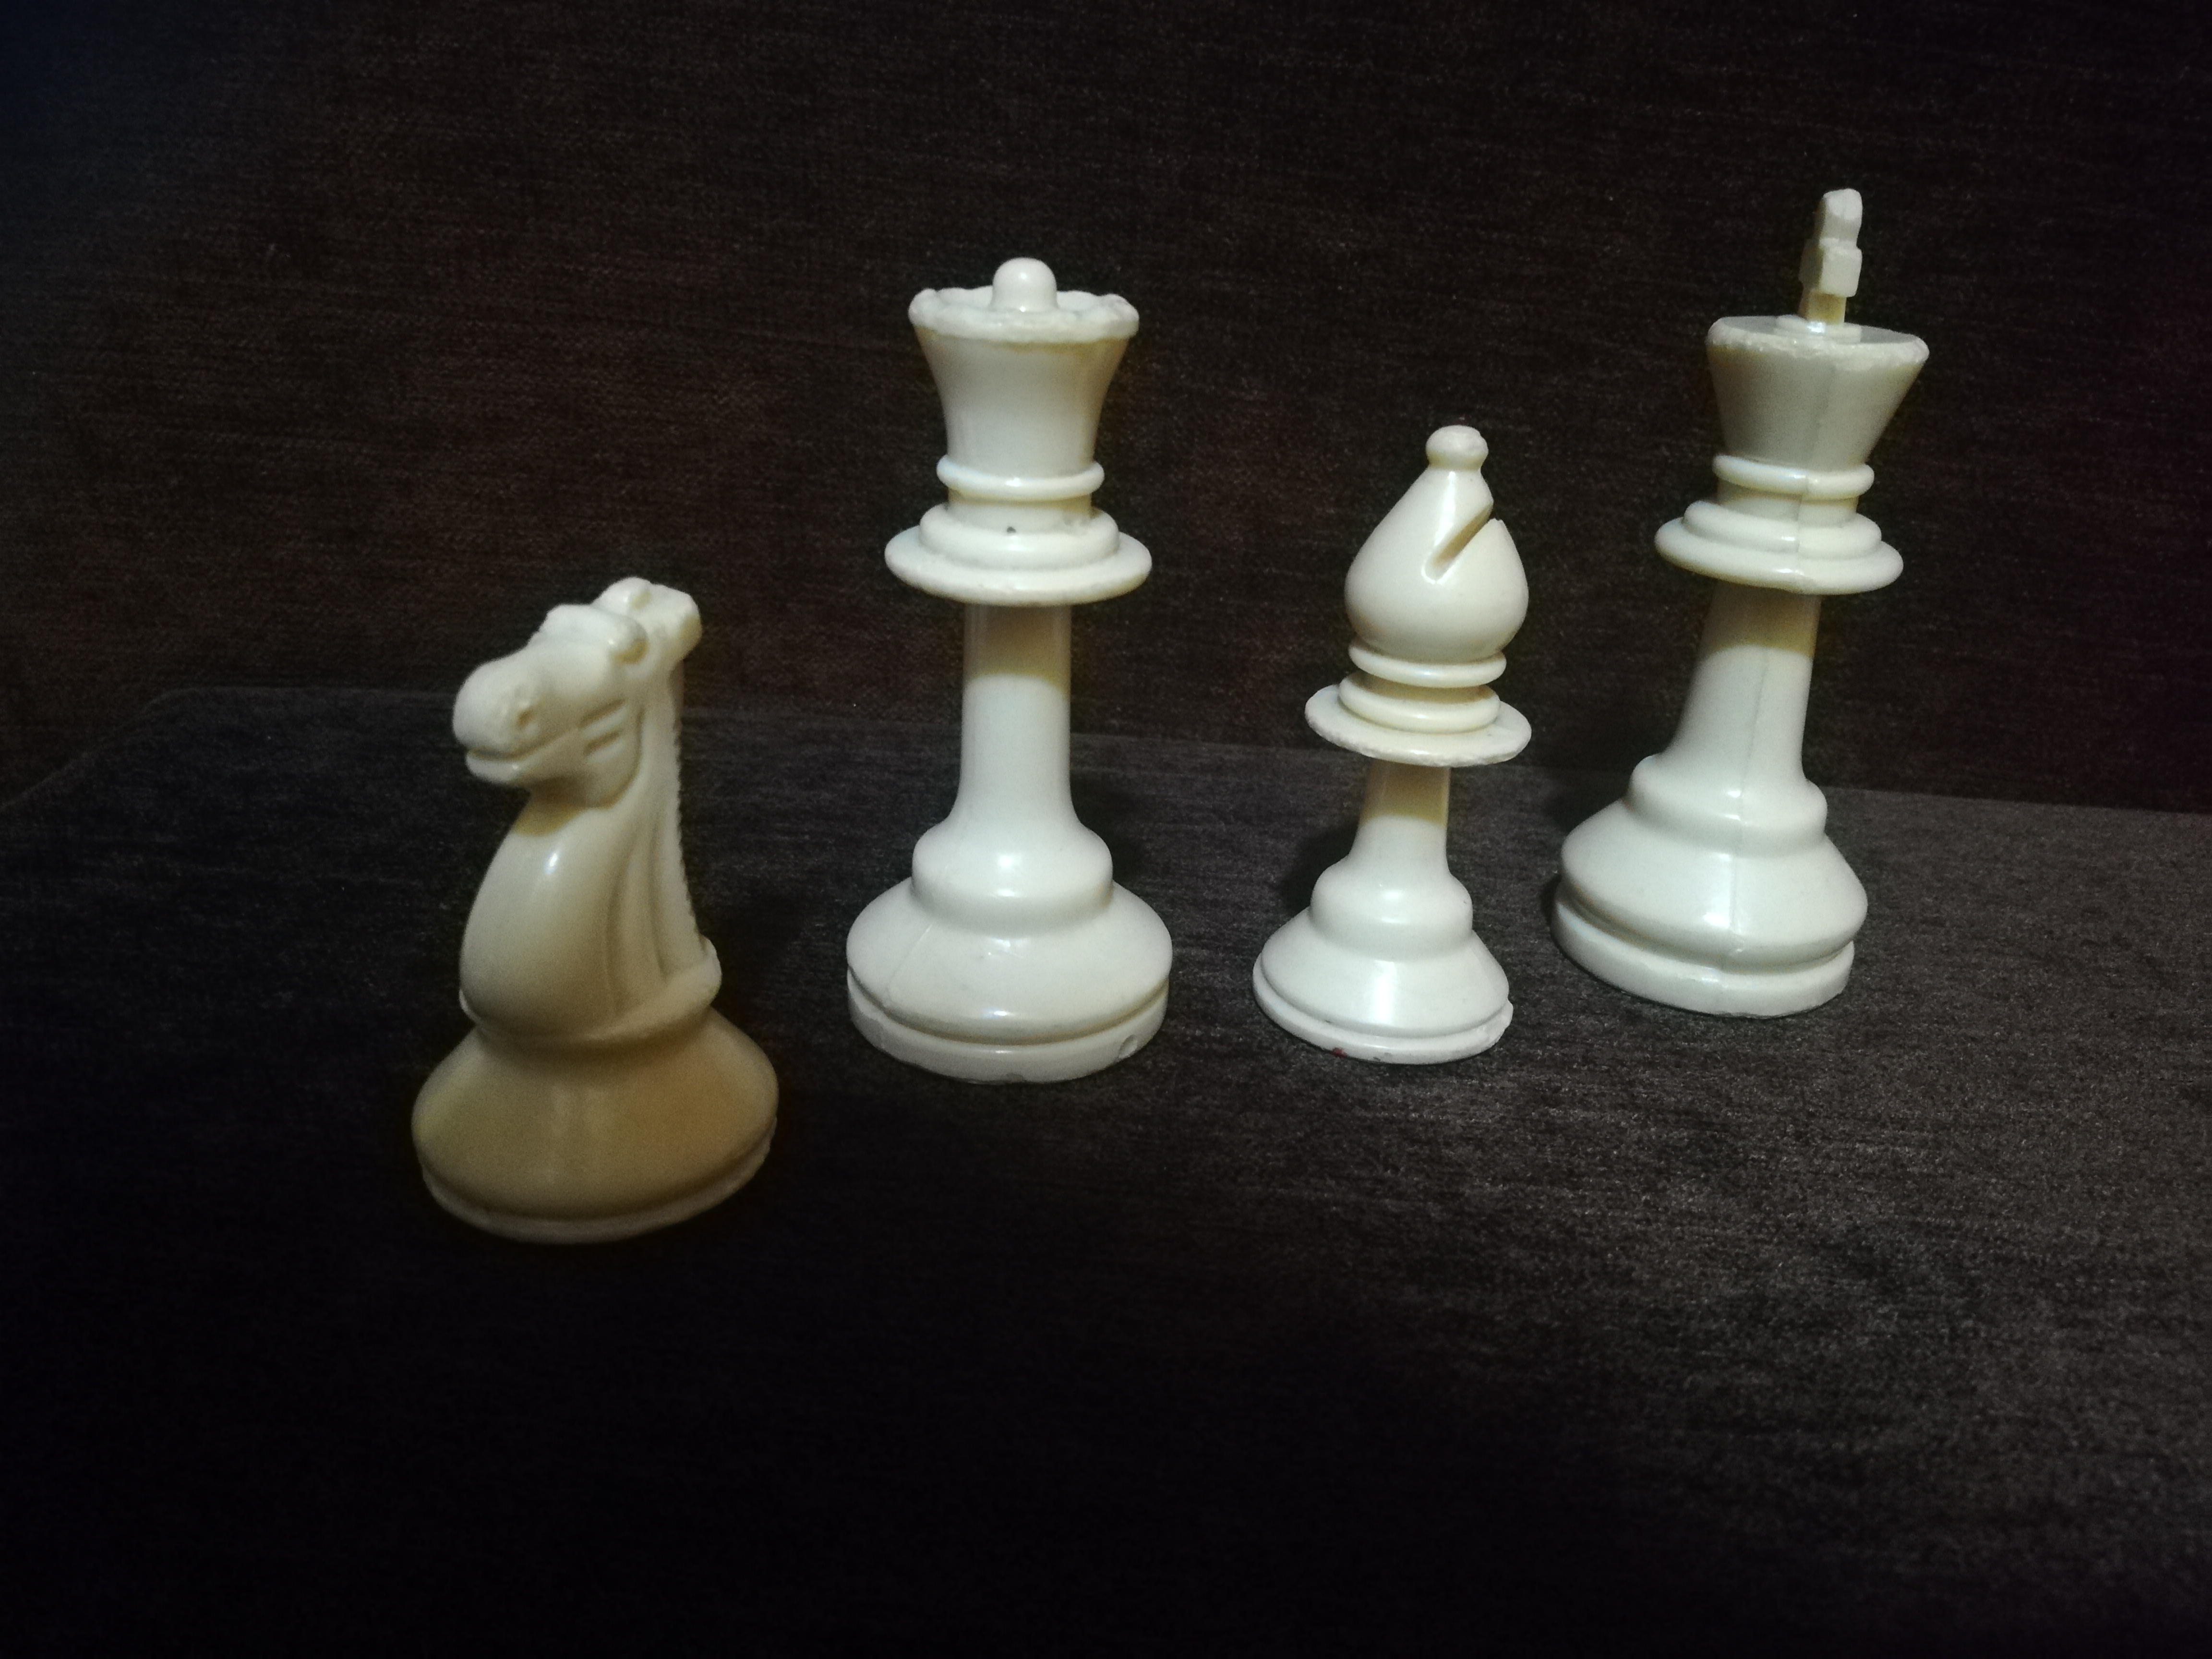Bishop: (1267, 404, 1546, 1073)
King: (1576, 186, 1912, 1028)
Knight: (401, 563, 811, 1235)
Queen: (851, 242, 1176, 1089)
